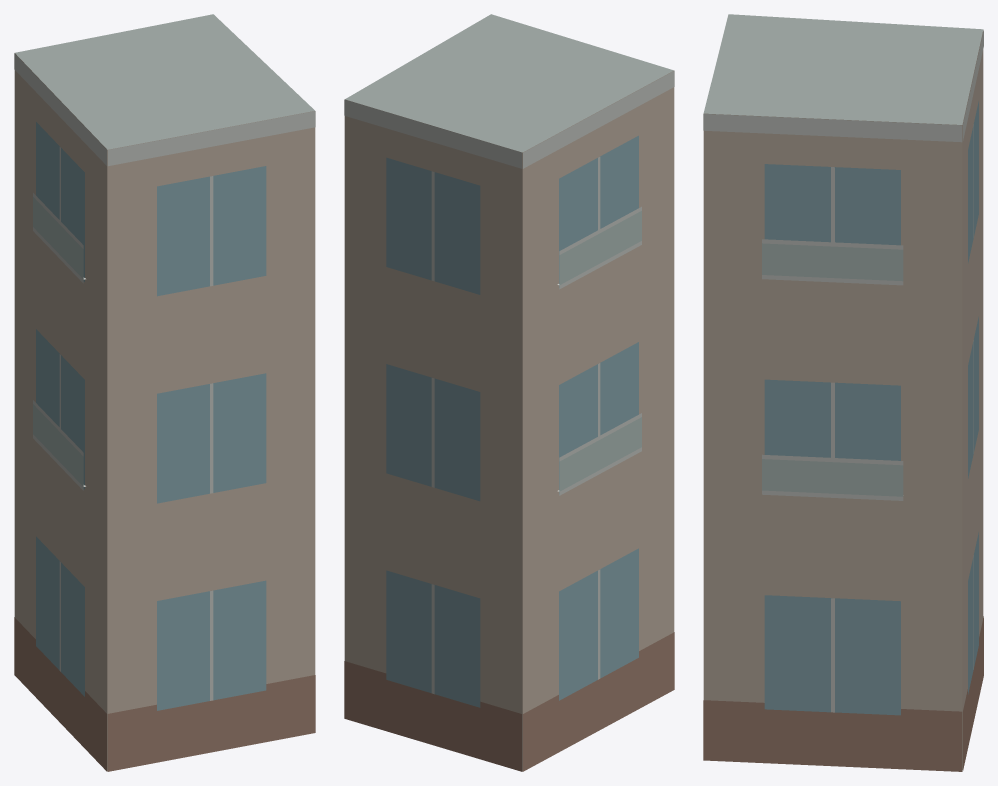
The model's file is survey-upis-32713435.glb.
The picture shows the model from 3 angles, left to right: view 1: azimuth 30°, elevation 25°; view 2: azimuth 150°, elevation 25°; view 3: azimuth 270°, elevation 25°; orthographic projection. The views are drawn at different scales.
Visible parts, largest first — view 1: survey-upis-32713435.tmp; view 2: survey-upis-32713435.tmp; view 3: survey-upis-32713435.tmp.
Boxes of the visible parts, bbox=[...] form: survey-upis-32713435.tmp: bbox=[14, 14, 315, 771]; survey-upis-32713435.tmp: bbox=[344, 14, 674, 771]; survey-upis-32713435.tmp: bbox=[703, 14, 983, 771].
Bounding box in the file's own units: 3.38 × 9.15 × 3.6.
